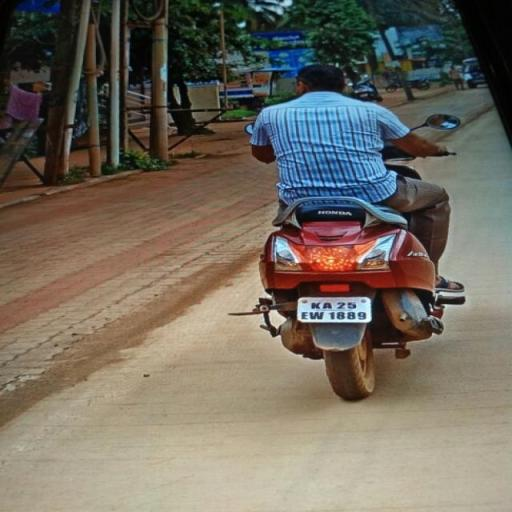bike: (228, 58, 466, 408)
numberplate: (296, 296, 376, 324)
withouthelmet: (299, 65, 345, 92)
